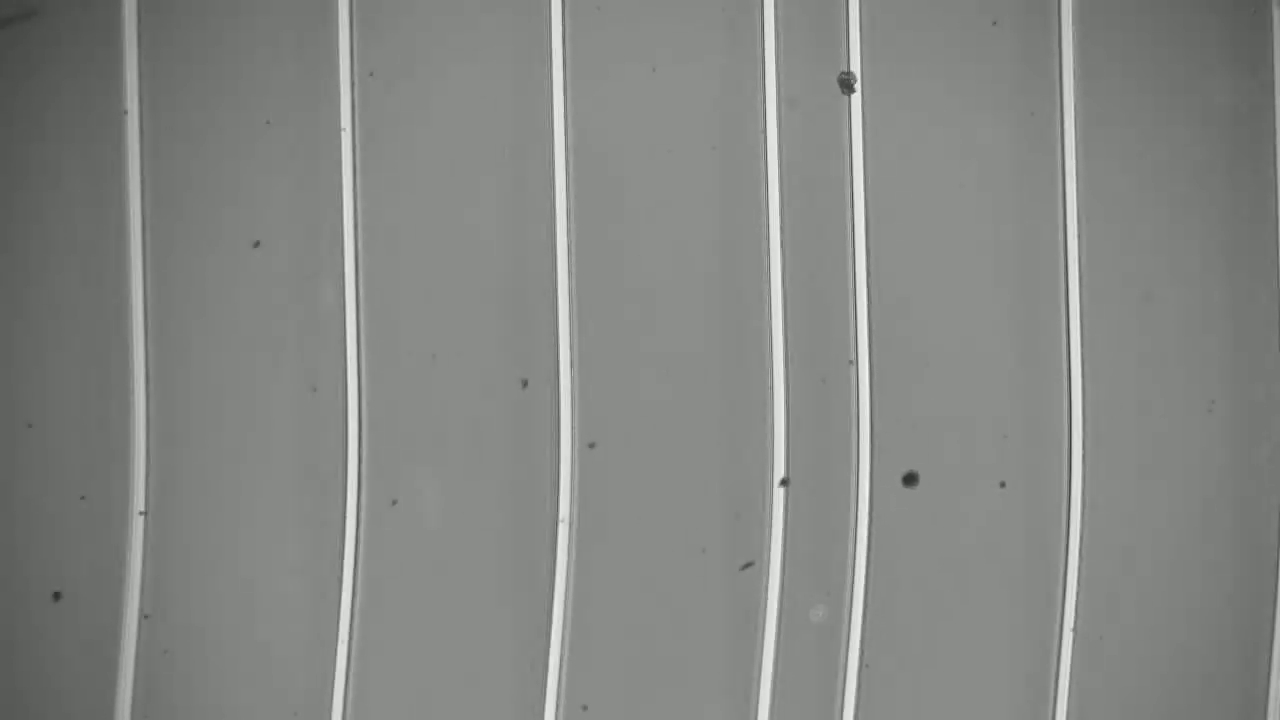stains_enbedded: (830, 64, 882, 102), (764, 470, 802, 496)
